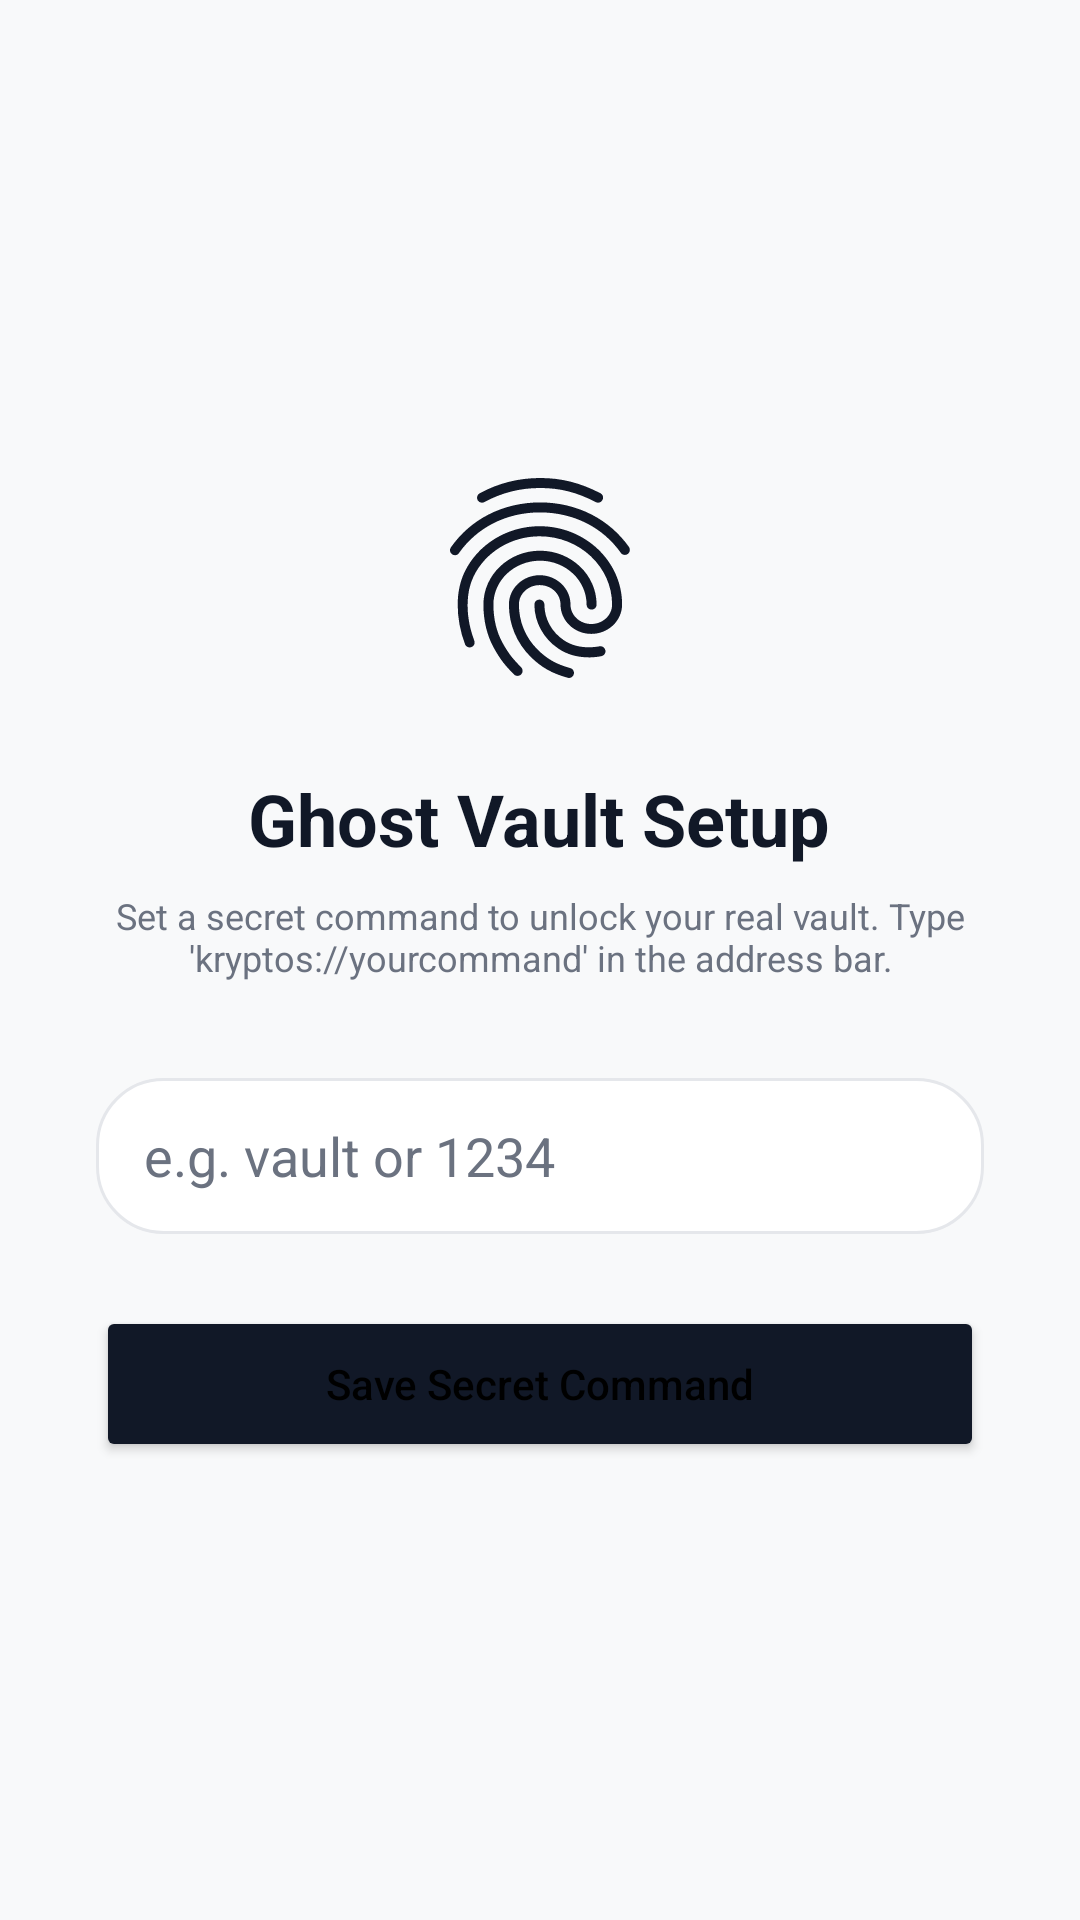

Named icons in this screenshot (1080×1920) and their bounding boxes, [x1,y1,x2,y2]:
fingerprint: [450,478,630,678]
